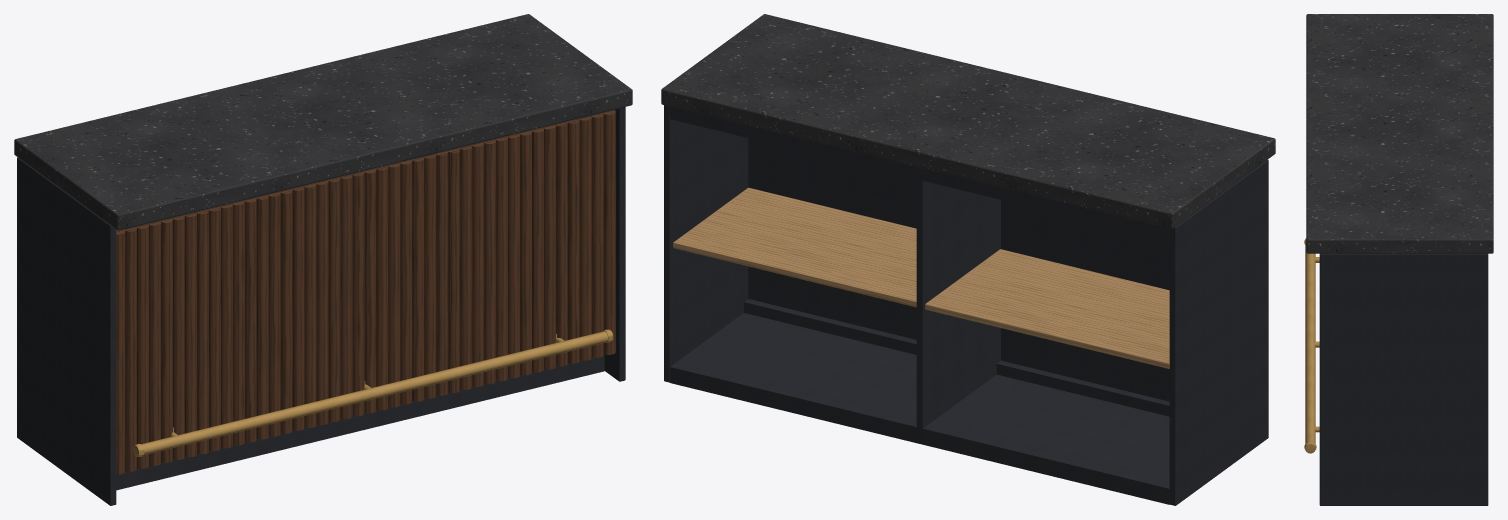
Rendered from bar_counter.glb.
The picture shows the model from 3 angles, left to right: view 1: azimuth 30°, elevation 25°; view 2: azimuth 150°, elevation 25°; view 3: azimuth 270°, elevation 25°; orthographic projection. The views are drawn at different scales.
Parts seen in each view (by area): view 1: top_stone_granite_0, carcass_graphite_0, carcass_graphite_2, foot_rail_brass_0, front_wood_walnut_27, front_wood_walnut_13, front_wood_walnut_20, front_wood_walnut_23, front_wood_walnut_24, front_wood_walnut_26, front_wood_walnut_30, front_wood_walnut_16 (+36 smaller); view 2: top_stone_granite_0, carcass_graphite_4, carcass_graphite_3, carcass_graphite_0, shelf_wood_oak_0, shelf_wood_oak_1, carcass_graphite_1, carcass_graphite_7, carcass_graphite_5, carcass_graphite_2; view 3: top_stone_granite_0, carcass_graphite_1, foot_rail_brass_0.
Part boxes in pixels (bbox=[...]): top_stone_granite_0: bbox=[14, 14, 632, 230]; carcass_graphite_0: bbox=[17, 157, 116, 505]; carcass_graphite_2: bbox=[116, 354, 604, 490]; foot_rail_brass_0: bbox=[141, 331, 607, 454]; front_wood_walnut_27: bbox=[424, 154, 436, 398]; front_wood_walnut_13: bbox=[256, 195, 268, 439]; front_wood_walnut_20: bbox=[340, 175, 352, 419]; front_wood_walnut_23: bbox=[376, 166, 388, 410]; front_wood_walnut_24: bbox=[388, 163, 400, 407]; front_wood_walnut_26: bbox=[411, 157, 424, 401]; front_wood_walnut_30: bbox=[459, 145, 472, 389]; front_wood_walnut_16: bbox=[292, 186, 304, 430]; top_stone_granite_0: bbox=[661, 14, 1275, 228]; carcass_graphite_4: bbox=[670, 313, 1169, 504]; carcass_graphite_3: bbox=[748, 138, 1169, 401]; carcass_graphite_0: bbox=[1169, 159, 1268, 505]; shelf_wood_oak_0: bbox=[925, 249, 1169, 368]; shelf_wood_oak_1: bbox=[673, 187, 916, 307]; carcass_graphite_1: bbox=[664, 105, 748, 382]; carcass_graphite_7: bbox=[916, 179, 1000, 428]; carcass_graphite_5: bbox=[670, 106, 1169, 240]; carcass_graphite_2: bbox=[744, 299, 1169, 416]; top_stone_granite_0: bbox=[1306, 14, 1493, 253]; carcass_graphite_1: bbox=[1319, 253, 1488, 505]; foot_rail_brass_0: bbox=[1305, 241, 1315, 443].
Size of what is drawn, in the model's own units: 2 by 1.1 by 0.708.
10 materials, 9 textured.
